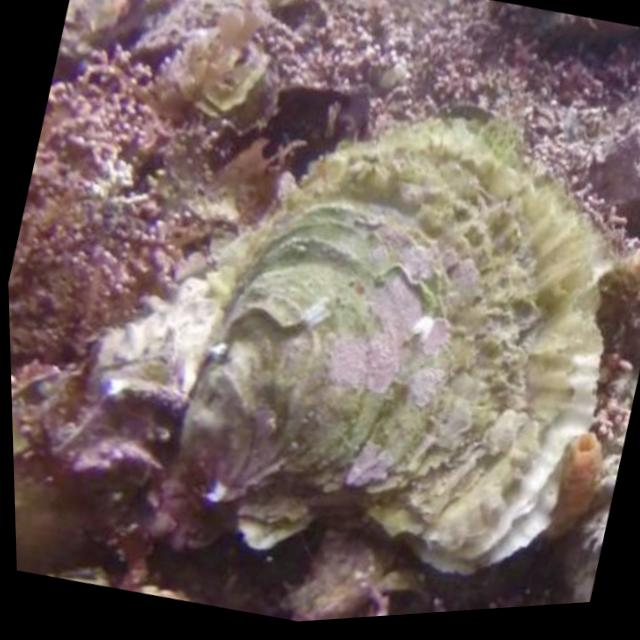Oyster-Closed: (183, 113, 603, 577)
